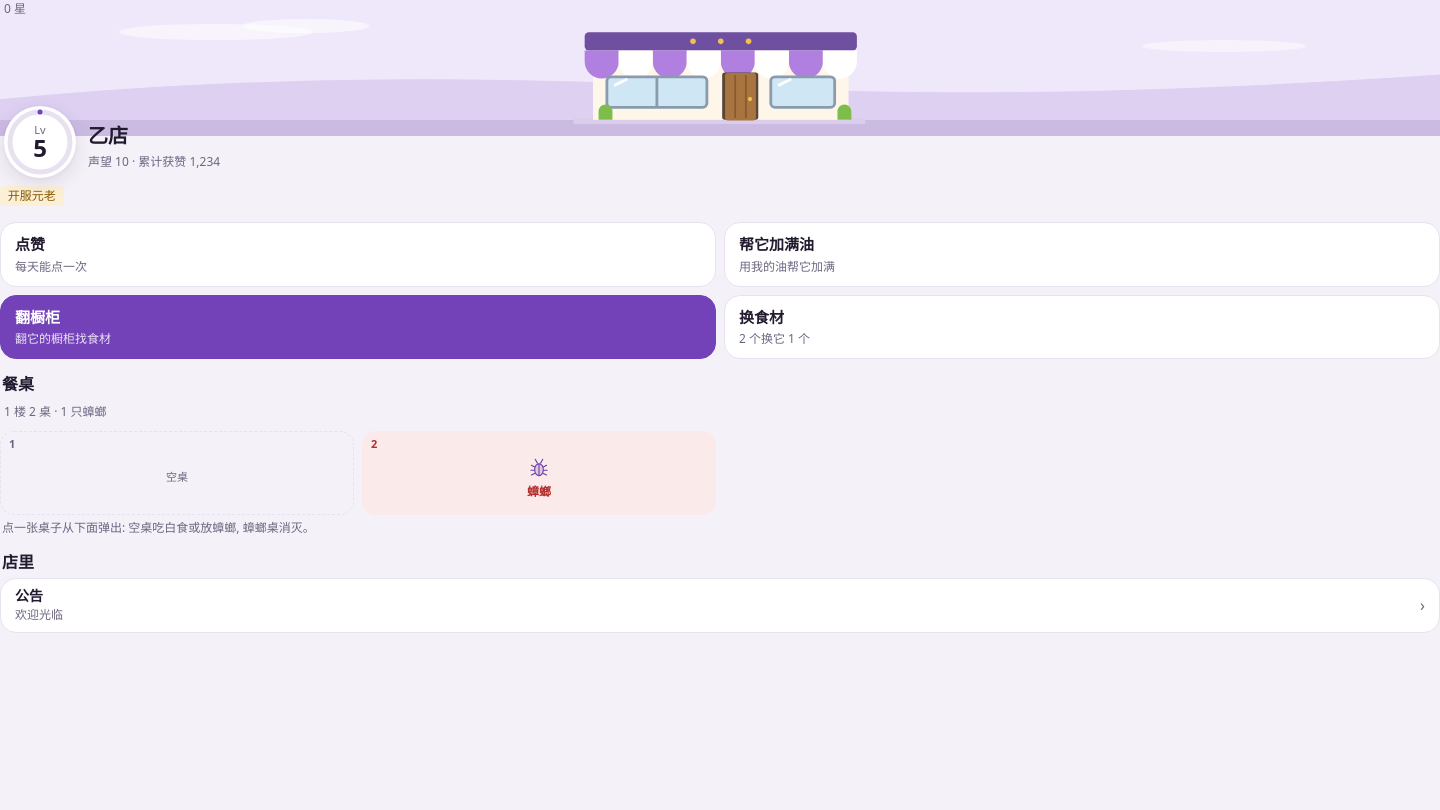
Test: FriendRestView › 蟹老板（NPC 店）的店名、公告没有举报（backlog 6B-1：点了会被拒）
This screenshot has width=1440, height=810.
Click the button with test id "friend-notice".
click(39, 614)  # box [1,579,1439,632]
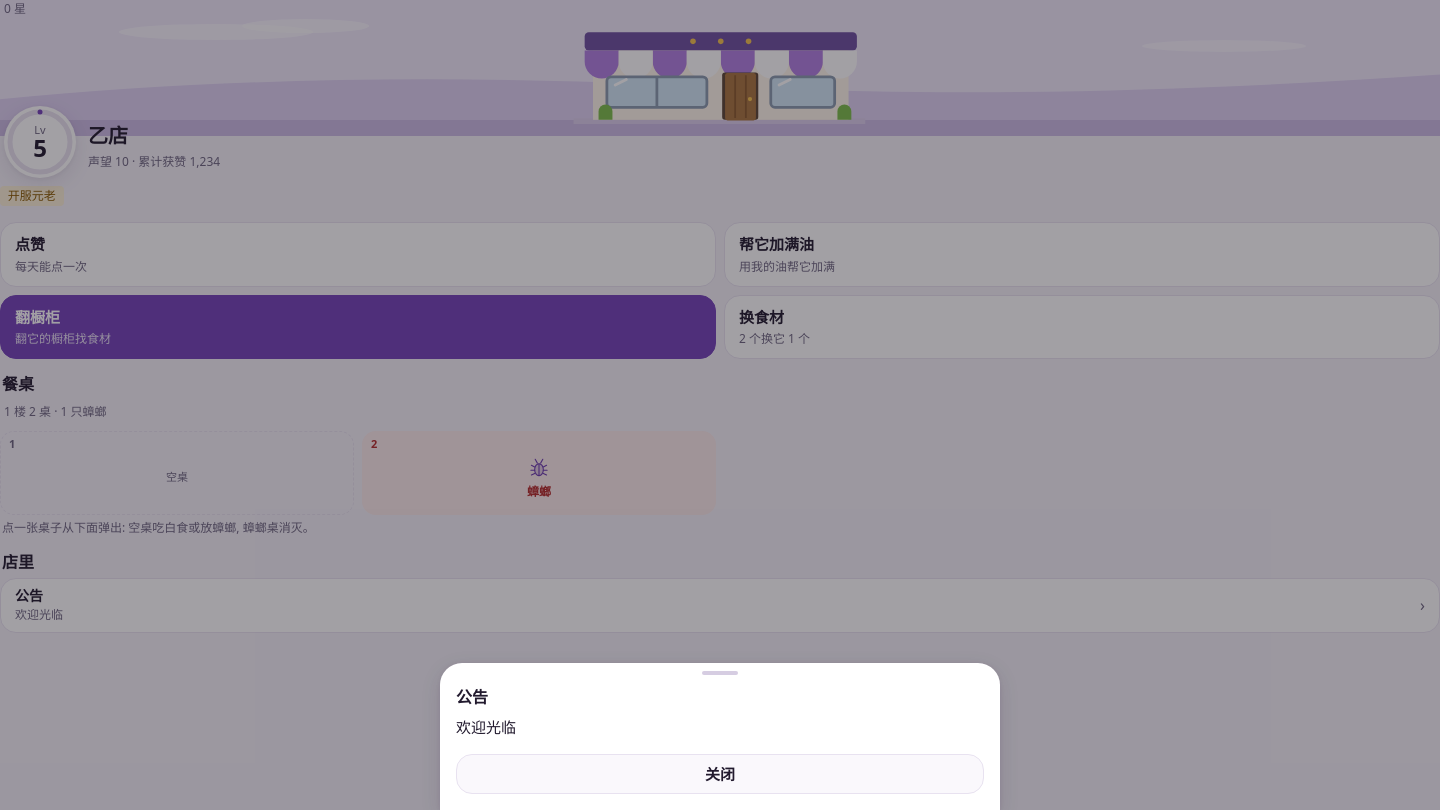
Expected: the text "欢迎光临" is shown, [456,716,516,736]
